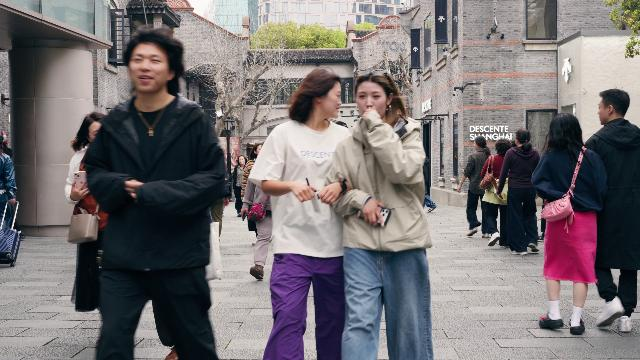person: (86, 27, 228, 360), (322, 69, 434, 360), (531, 113, 608, 336), (582, 89, 640, 333), (63, 111, 109, 313), (496, 129, 542, 255), (480, 138, 512, 248), (240, 177, 274, 280), (456, 136, 491, 236)
